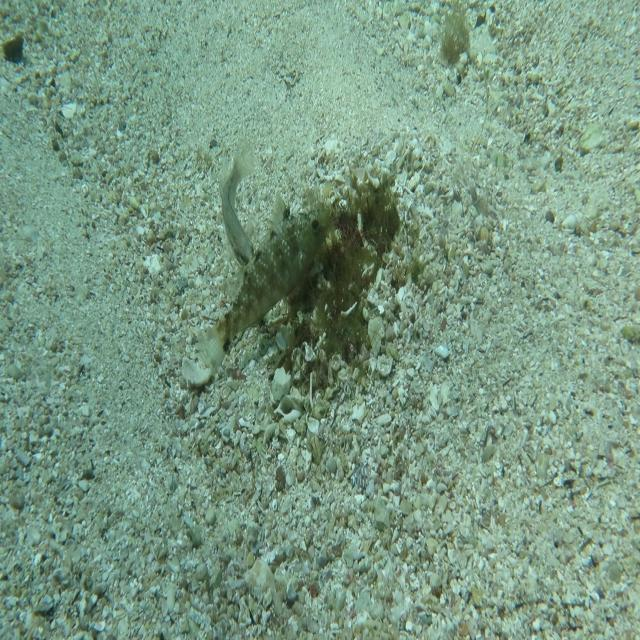core_nest: (330, 205, 389, 262)
female: (200, 186, 330, 380), (217, 135, 260, 269)
nest: (267, 165, 412, 406)
